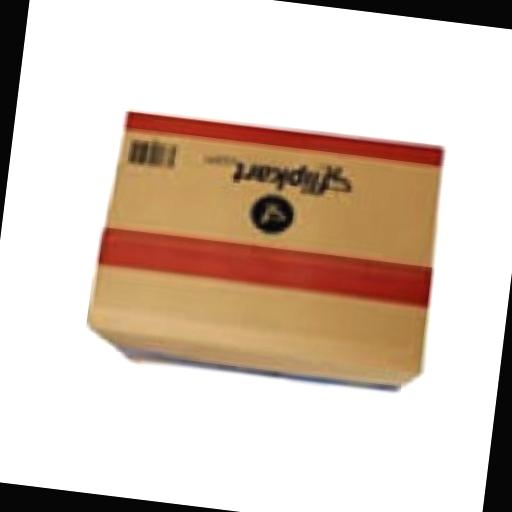cardboard: (86, 112, 452, 402)
